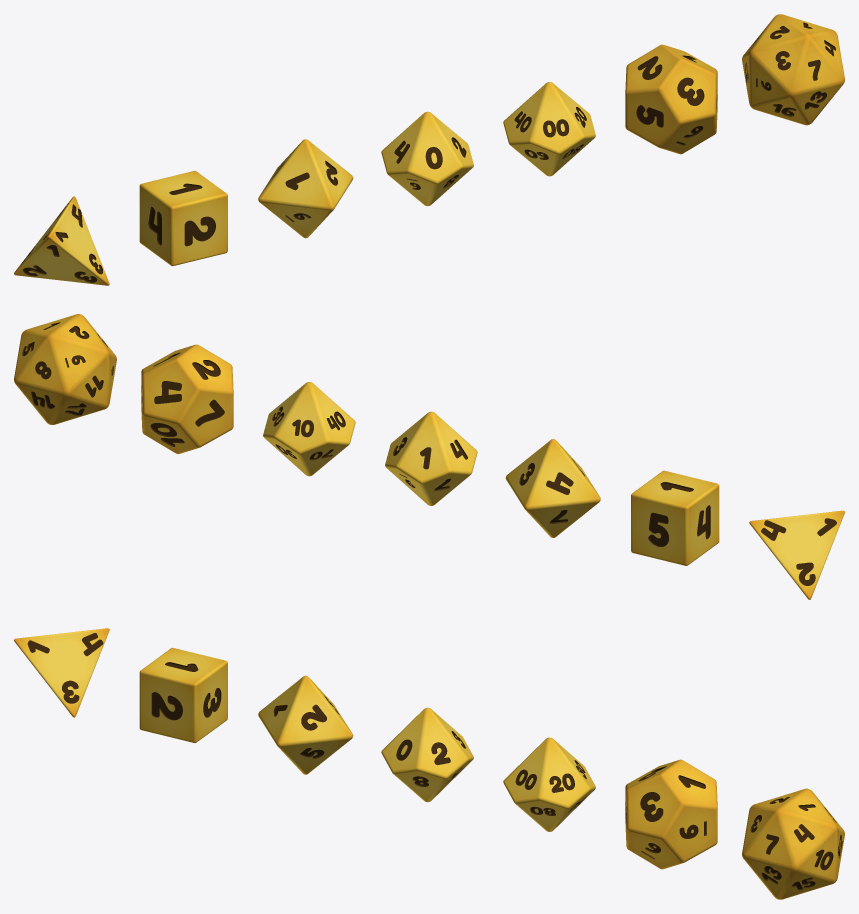
File: sunflower.glb
The picture shows the model from 3 angles, top to bottom: view 1: azimuth 30°, elevation 25°; view 2: azimuth 150°, elevation 25°; view 3: azimuth 330°, elevation 25°; orthographic projection.
Visible parts, largest first — view 1: d20, d12, d6, d100, d10, d8, d4; view 2: d20, d12, d6, d100, d10, d8, d4; view 3: d20, d12, d6, d8, d10, d100, d4.
Boxes of the visible parts, x1,y1,x2,y2 form: d20: [742, 14, 844, 125]; d12: [625, 44, 717, 154]; d6: [139, 171, 227, 266]; d100: [503, 82, 595, 176]; d10: [381, 111, 473, 206]; d8: [258, 139, 353, 238]; d4: [14, 196, 109, 285]; d20: [14, 314, 116, 424]; d12: [141, 344, 233, 453]; d6: [631, 470, 719, 565]; d100: [263, 382, 355, 476]; d10: [385, 411, 477, 505]; d8: [505, 439, 600, 537]; d4: [749, 510, 844, 599]; d20: [742, 788, 844, 899]; d12: [625, 759, 717, 869]; d6: [139, 647, 227, 742]; d8: [258, 675, 353, 774]; d10: [381, 707, 473, 802]; d100: [503, 737, 595, 831]; d4: [14, 628, 109, 717].
Size of the model in its own units: 21.14 by 2.47 by 2.47.
14 materials, 7 textured.
